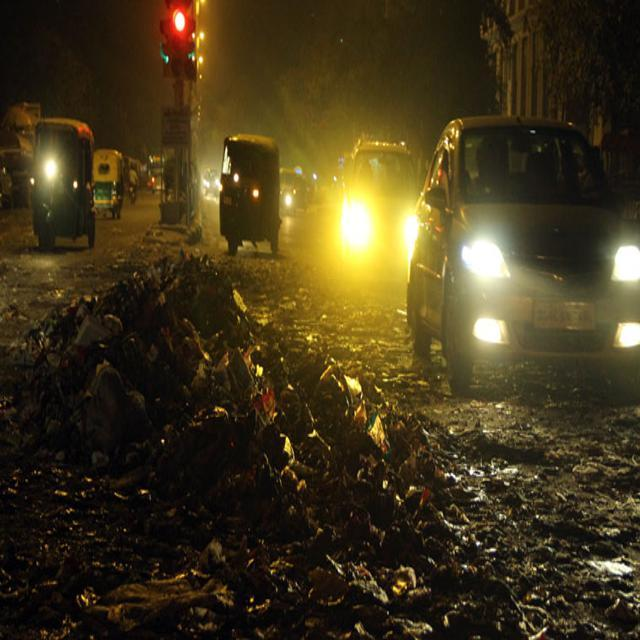garbage: (29, 250, 409, 627)
